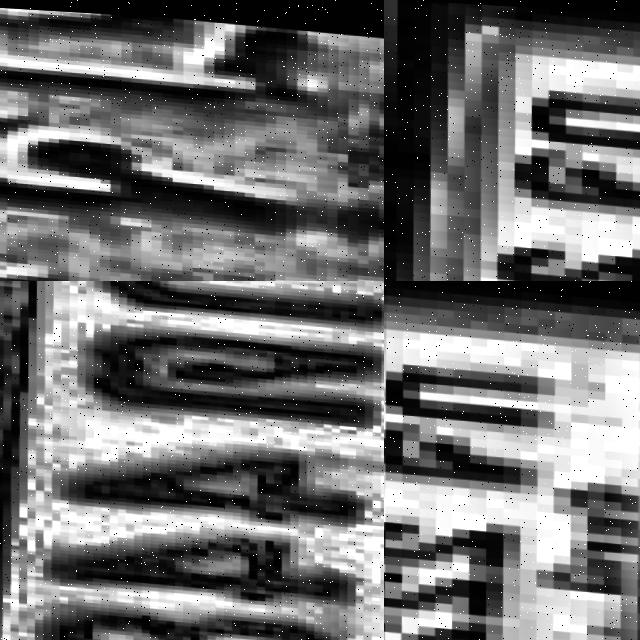license-plate: (0, 281, 384, 640), (0, 0, 384, 281), (384, 281, 640, 640), (384, 0, 640, 281)
